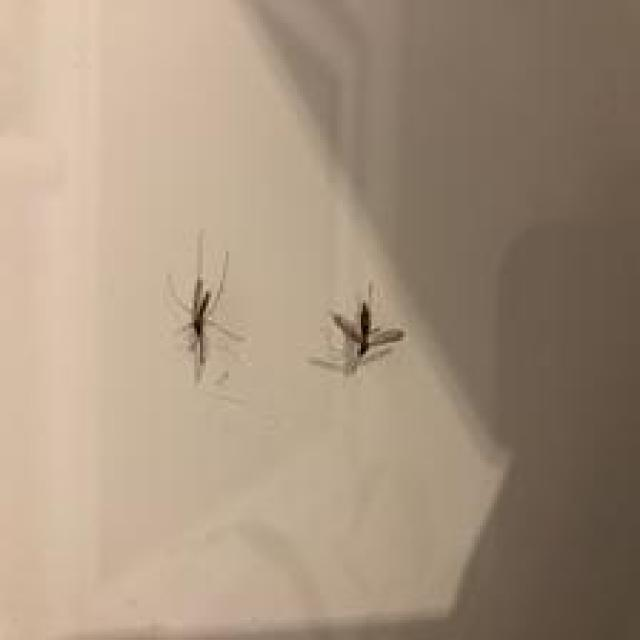Culex: (308, 280, 406, 377)
